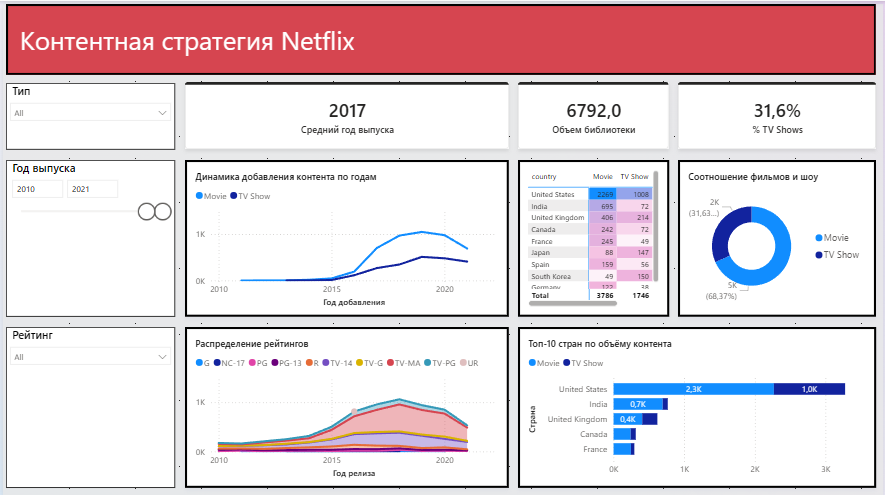

The dashboard page shown, as its layout file describes it:
{"tool":"powerbi","page":{"name":"Контентная стратегия","canvas":[1280,720],"ordinal":0},"visuals":[{"type":"shape","title":"Контент","box":[4.4,0,1265.5,103.3],"z":0},{"type":"cardVisual","fields":{"Data":["_Measures.Total Titles"]},"box":[749.1,113.5,219.6,97.5],"z":1000},{"type":"cardVisual","fields":{"Data":["_Measures.% TV Shows"]},"box":[981.8,113.5,288,97.5],"z":2000},{"type":"cardVisual","fields":{"Data":["_Measures.Avg Release Year"]},"box":[264.7,113.5,245.8,97.5],"z":3000},{"type":"lineChart","title":"Динамика добавления контента по годам","fields":{"Category":["netflix_titles.Year Added"],"Y":["_Measures.Total Titles"],"Series":["netflix_titles.type"]},"box":[264.7,226.9,471.3,228.4],"z":4000},{"type":"donutChart","title":"Соотношение фильмов и шоу","fields":{"Y":["_Measures.Total Titles"],"Category":["netflix_titles.type"]},"box":[981.8,226.9,288,228.4],"z":5000},{"type":"barChart","title":"Топ-10 стран по объёму контента","fields":{"Series":["netflix_titles.type"],"Category":["Countries.country"],"Y":["_Measures.Объём по странам"]},"box":[749.1,469.8,520.7,234.2],"z":6000},{"type":"pivotTable","fields":{"Rows":["Countries.country"],"Columns":["netflix_titles.type"],"Values":["_Measures.Объём по странам"]},"box":[749.1,226.9,219.6,228.4],"z":7000},{"type":"stackedAreaChart","title":"Распределение рейтингов","fields":{"Category":["netflix_titles.release_year"],"Y":["_Measures.Total Titles"],"Series":["netflix_titles.rating"]},"box":[264.7,469.8,471.3,234.2],"z":8000},{"type":"slicer","fields":{"Values":["netflix_titles.release_year"]},"box":[4.4,226.9,245.8,228.4],"z":9000},{"type":"slicer","fields":{"Values":["netflix_titles.type"]},"box":[4.4,114.9,245.8,97.5],"z":10000},{"type":"slicer","fields":{"Values":["netflix_titles.rating"]},"box":[4.4,469.8,245.8,234.2],"z":11000},{"type":"cardVisual","fields":{"Data":["_Measures.Peak Adding Year"]},"box":[520.7,113.5,215.3,97.5],"z":11002}]}

Visuals, with their boxes in screenshot pixels (x1, y1, x2, y2), scaled from the page's 1280x720 canvas onto the 885x495 screenshot:
"Контент" shape: detection(3, 0, 878, 71)
cardVisual - _Measures.Total Titles: detection(518, 78, 670, 145)
cardVisual - _Measures.% TV Shows: detection(679, 78, 878, 145)
cardVisual - _Measures.Avg Release Year: detection(183, 78, 353, 145)
"Динамика добавления контента по годам" lineChart: detection(183, 156, 509, 313)
"Соотношение фильмов и шоу" donutChart: detection(679, 156, 878, 313)
"Топ-10 стран по объёму контента" barChart: detection(518, 323, 878, 484)
pivotTable - Countries.country x netflix_titles.type: detection(518, 156, 670, 313)
"Распределение рейтингов" stackedAreaChart: detection(183, 323, 509, 484)
slicer - netflix_titles.release_year: detection(3, 156, 173, 313)
slicer - netflix_titles.type: detection(3, 79, 173, 146)
slicer - netflix_titles.rating: detection(3, 323, 173, 484)
cardVisual - _Measures.Peak Adding Year: detection(360, 78, 509, 145)
